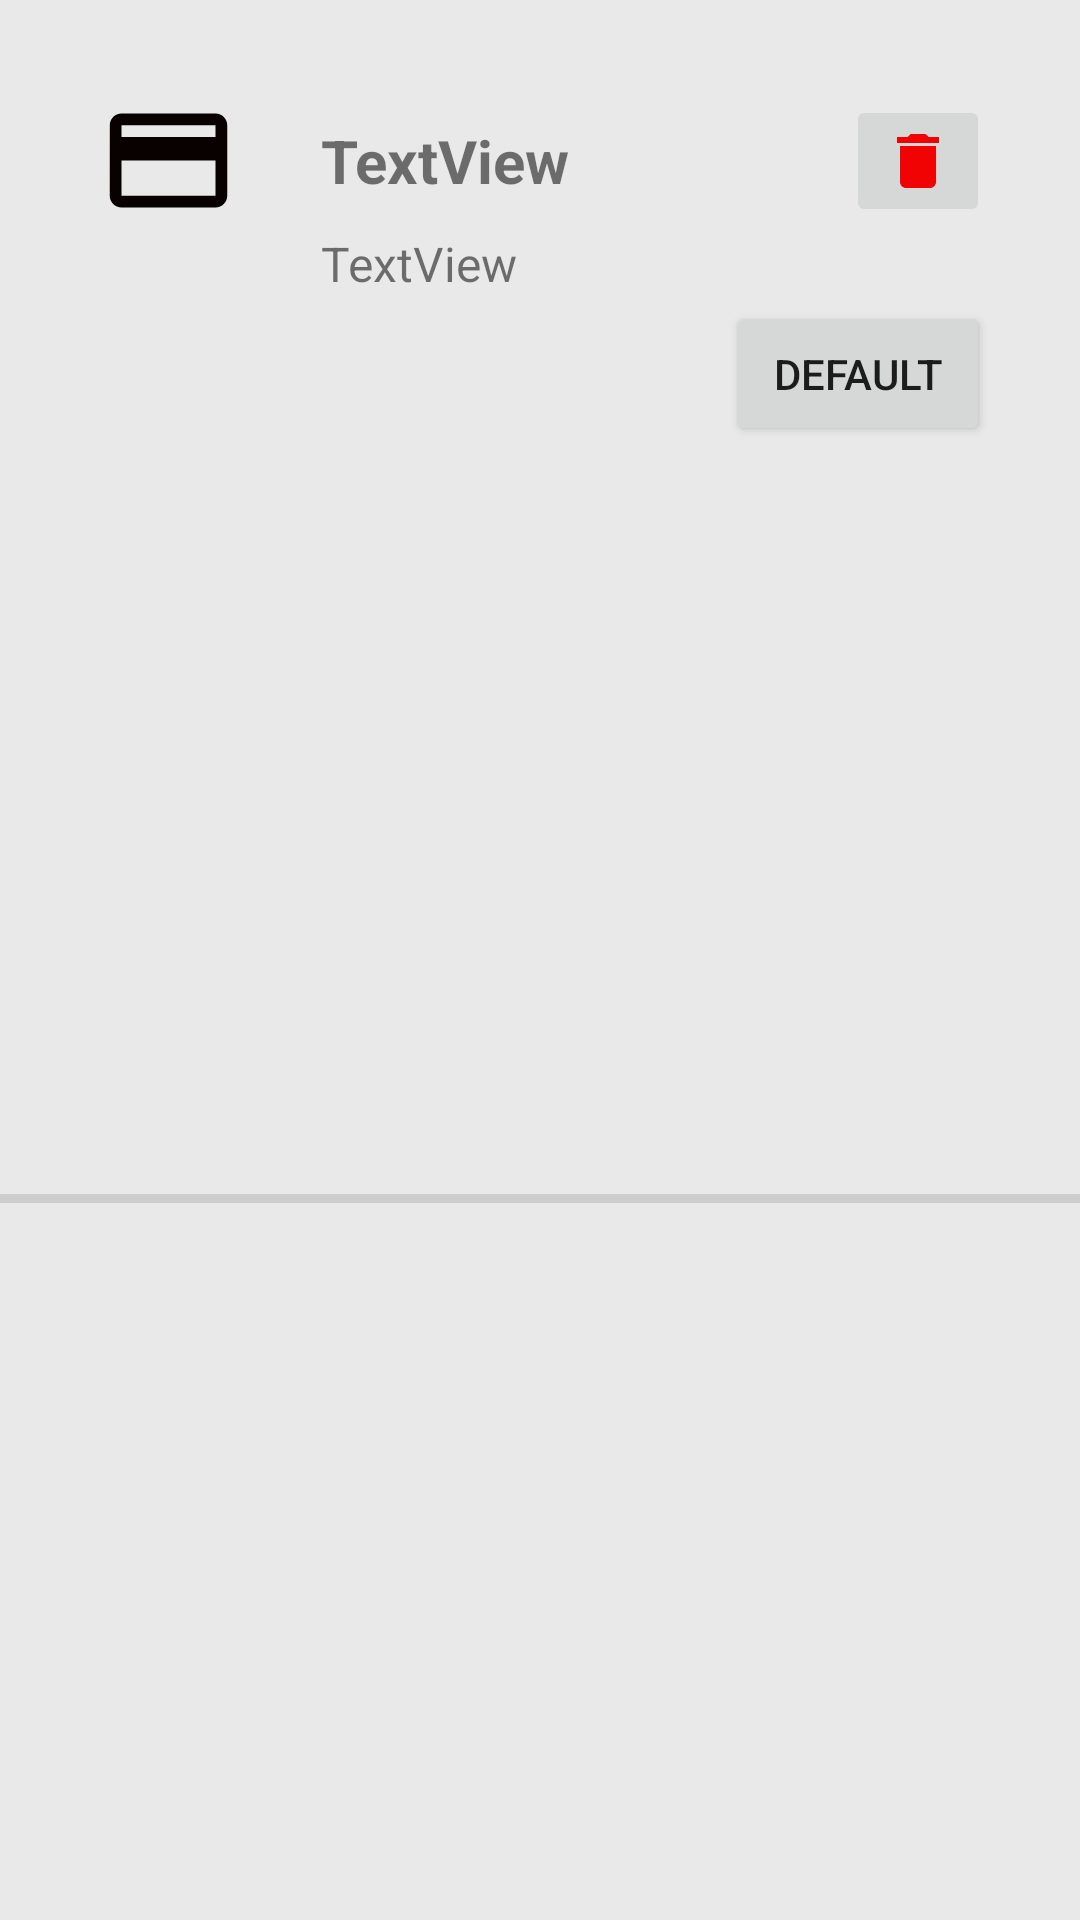

Locate icon controls on the screen. Image size 1080*1920, boxes as detection(x1, y1, x2, y2).
card: detection(109, 113, 228, 208)
delete: detection(897, 134, 939, 188)
